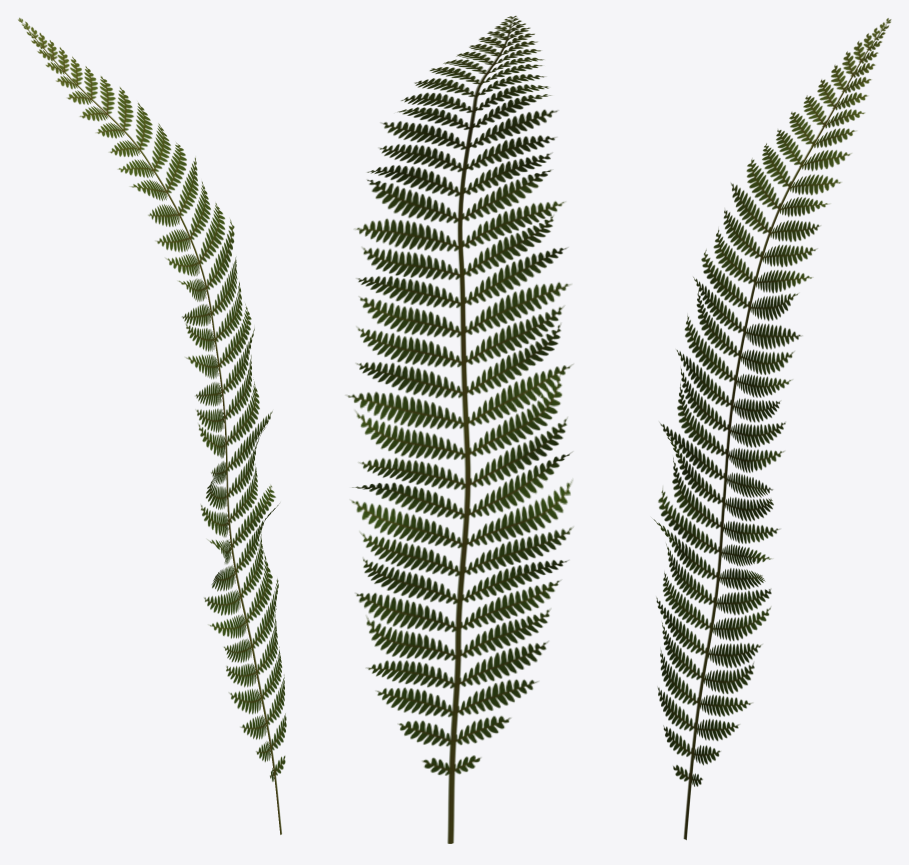
Rendered from fern.glb.
3 views of the same model, side by side, from view 1: azimuth 30°, elevation 25°; view 2: azimuth 150°, elevation 25°; view 3: azimuth 270°, elevation 25° (orthographic). The views are drawn at different scales.
Visible parts, largest first — view 1: Fern_Fern_0; view 2: Fern_Fern_0; view 3: Fern_Fern_0.
Part boxes in pixels (x1,y1,x2,y2): Fern_Fern_0: (18,17,286,834); Fern_Fern_0: (346,16,572,843); Fern_Fern_0: (653,18,891,839).
Bounding box in the file's own units: 0.2919 × 1 × 0.3143.
Materials: 1 (1 with a texture image).
